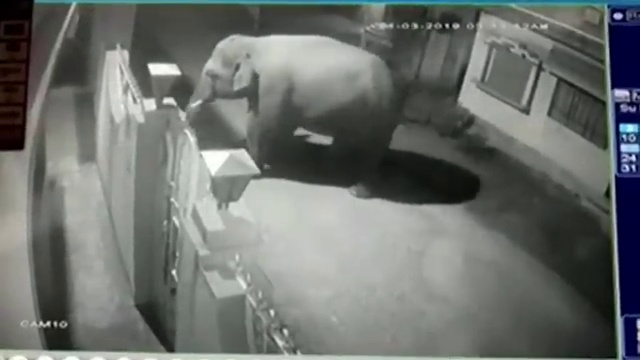Elephant: (185, 34, 399, 199)
